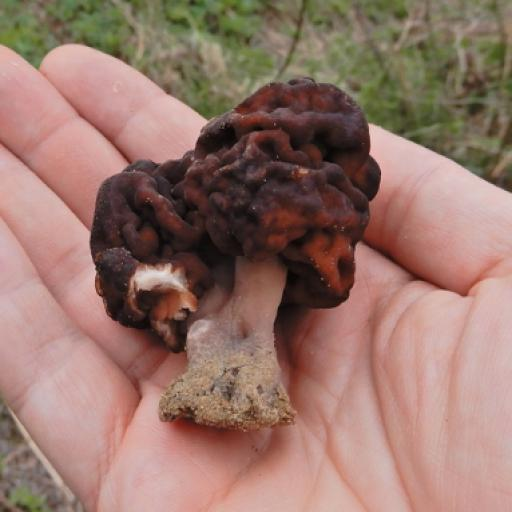mushroom: (83, 61, 381, 424)
